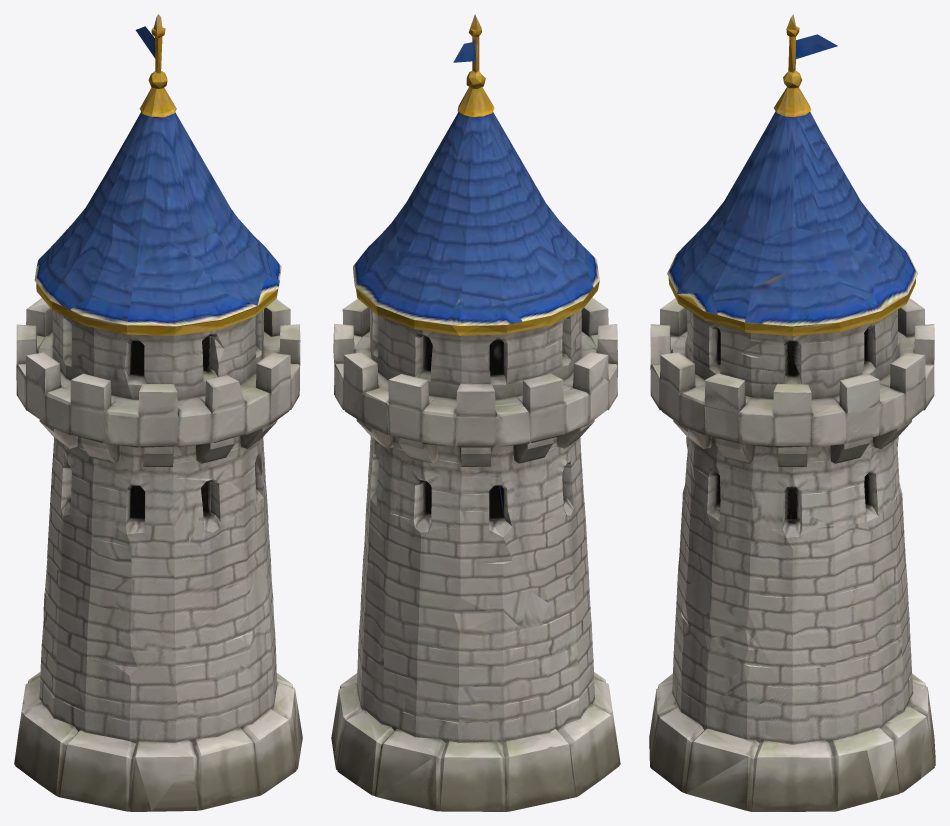
Rendered from oc_walltower.glb.
3 renders of one model, left to right at view 1: azimuth 30°, elevation 25°; view 2: azimuth 150°, elevation 25°; view 3: azimuth 270°, elevation 25°, orthographic.
Visible parts, largest first — view 1: W_wall_tower; view 2: W_wall_tower; view 3: W_wall_tower.
Part boxes in pixels (<box>): W_wall_tower: <box>14,14,302,811</box>; W_wall_tower: <box>331,14,620,811</box>; W_wall_tower: <box>649,14,935,811</box>.
Size of the model in its own units: 8.37 by 23.91 by 8.41.
Materials: 1 (1 with a texture image).
